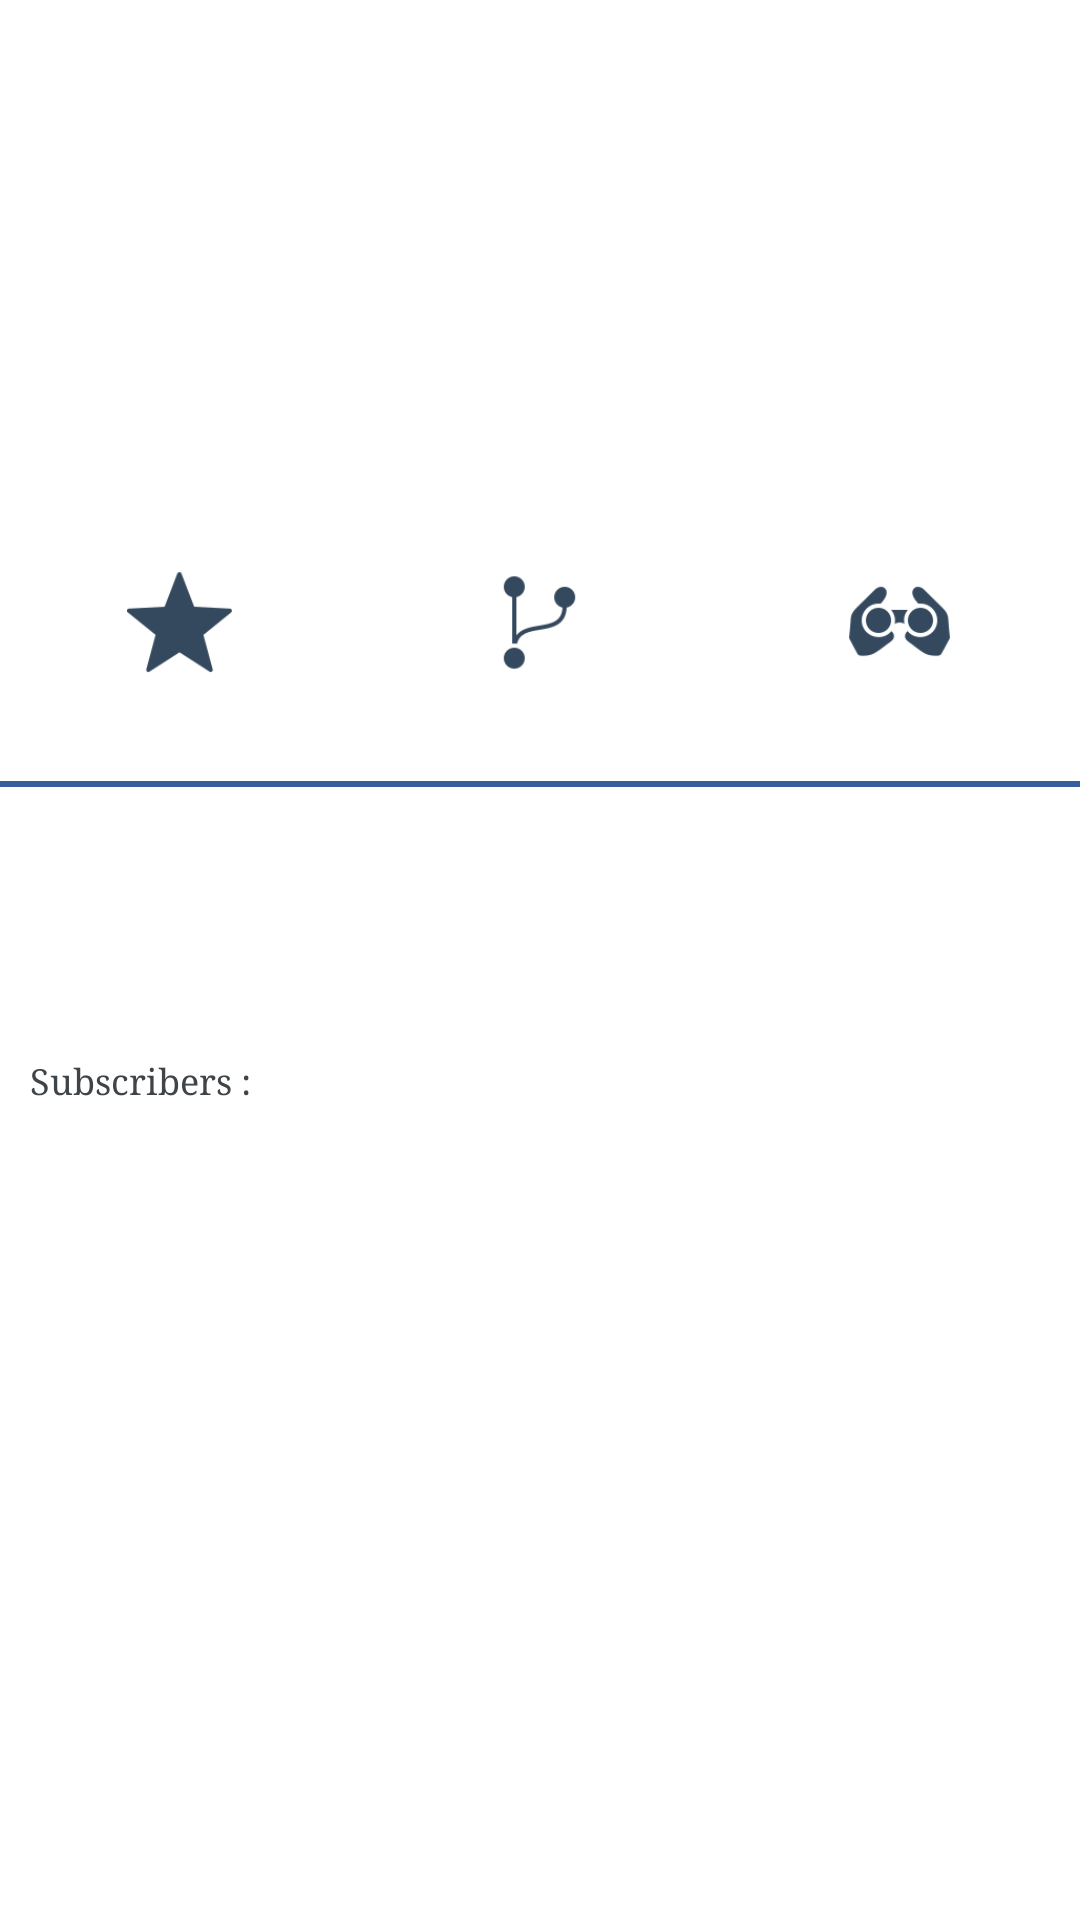

Locate icon controls on the screen. Image size 1080 × 1920, boxes as bbox=[x1, y1, x2, y2].
Forks Image: bbox=[503, 576, 576, 669]
Stars Image: bbox=[127, 572, 232, 673]
Subscribers Image: bbox=[849, 586, 950, 656]
